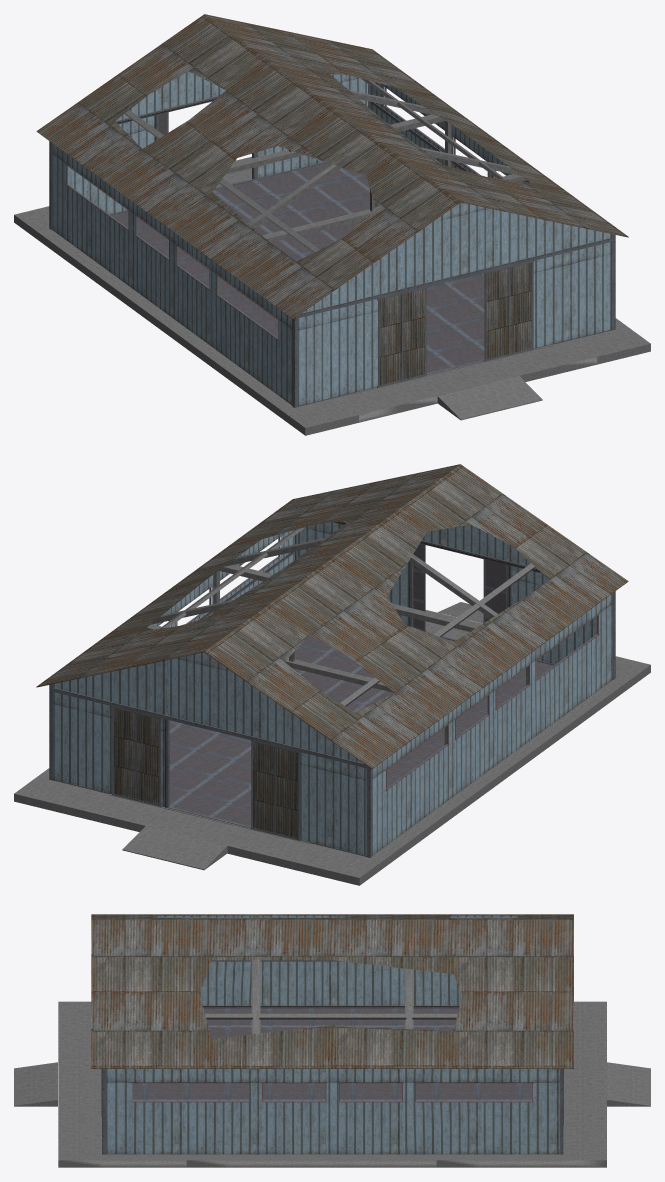
File: Building_Ck01_2048.glb
The picture shows the model from 3 angles, top to bottom: view 1: azimuth 30°, elevation 25°; view 2: azimuth 150°, elevation 25°; view 3: azimuth 270°, elevation 25°; orthographic projection. The views are drawn at different scales.
Visible parts, largest first — view 1: xiutz_ck_01; view 2: xiutz_ck_01; view 3: xiutz_ck_01.
Part boxes in pixels (x1,y1,x2,y2): xiutz_ck_01: (14,14,650,435); xiutz_ck_01: (14,464,650,885); xiutz_ck_01: (14,914,650,1167).
Size of the model in its own units: 18.24 by 9.03 by 30.93.
1 material, 1 textured.
